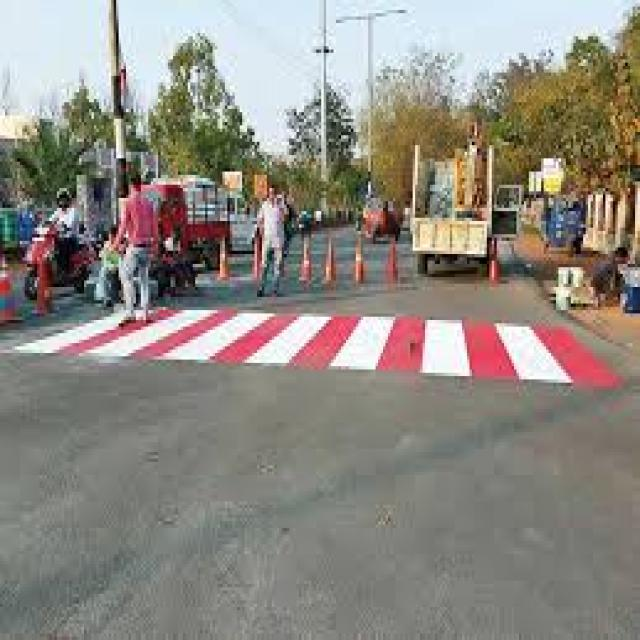person ahead at: (113, 172, 156, 328), (254, 185, 289, 298)
truck ahead at: (410, 144, 493, 270)
zebra crossing ahead at: (24, 294, 623, 384)
